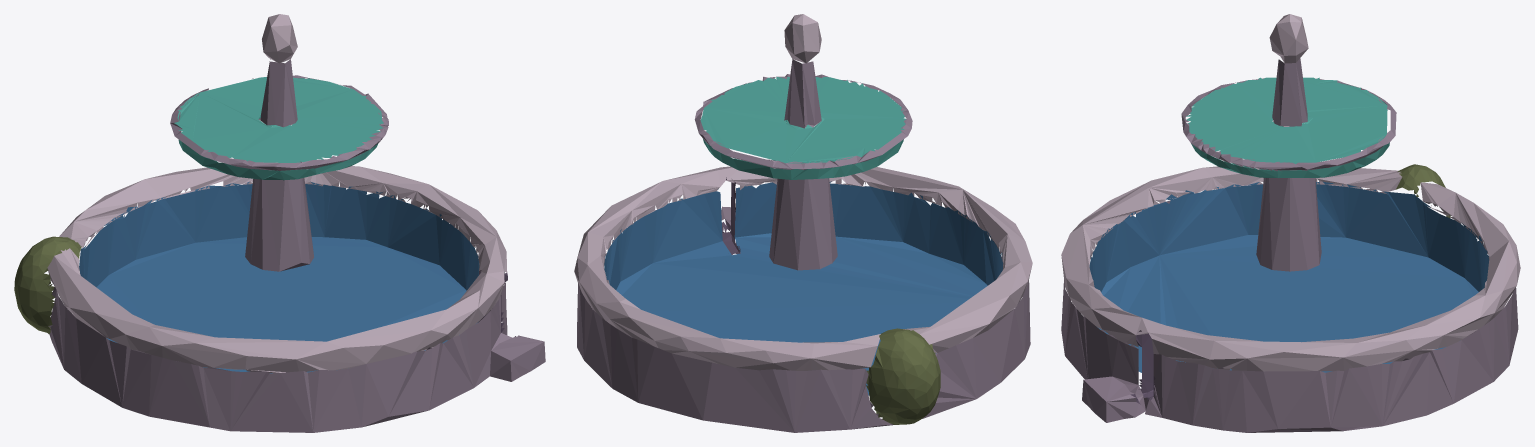
File: fountain.glb
3 renders of one model, left to right at view 1: azimuth 30°, elevation 25°; view 2: azimuth 150°, elevation 25°; view 3: azimuth 270°, elevation 25°, orthographic.
Parts seen in each view (by area): view 1: fountain; view 2: fountain; view 3: fountain.
Part boxes in pixels (left/top/right/bottom): fountain: left=14, top=14, right=545, bottom=432; fountain: left=574, top=14, right=1032, bottom=432; fountain: left=1061, top=14, right=1520, bottom=432.
Bounding box in the file's own units: 2.7 × 2.11 × 2.71.
